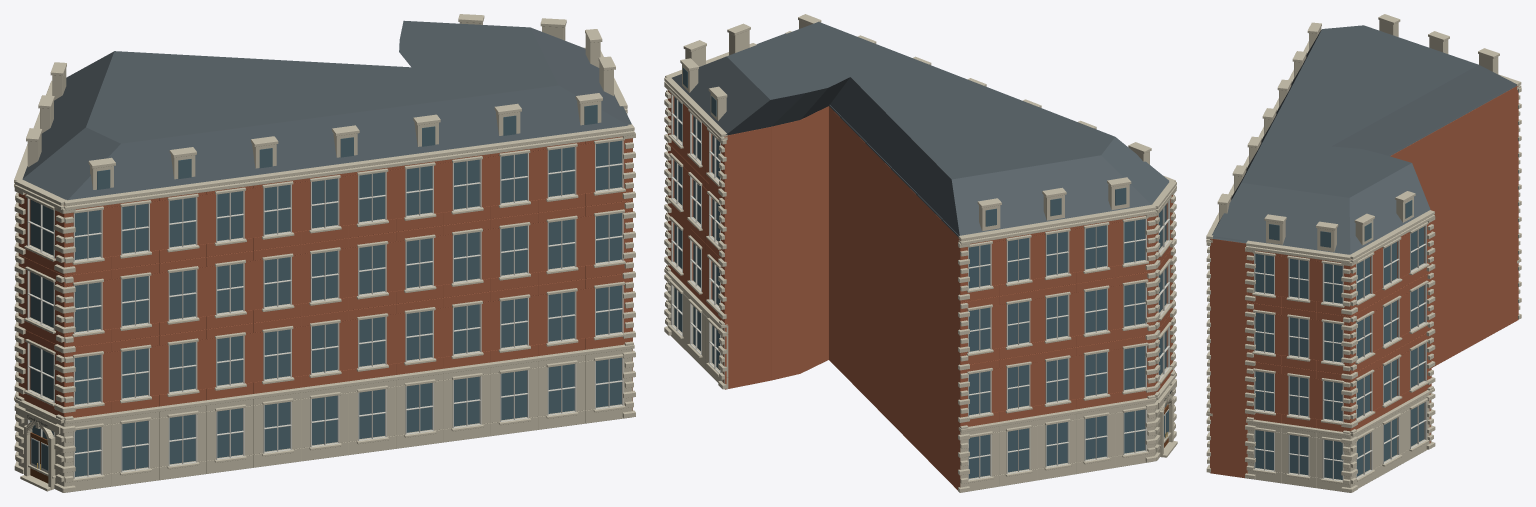
The model's file is cow-exterior-b4702a38c90c.glb.
The picture shows the model from 3 angles, left to right: view 1: azimuth 30°, elevation 25°; view 2: azimuth 150°, elevation 25°; view 3: azimuth 270°, elevation 25°; orthographic projection. The views are drawn at different scales.
Visible parts, largest first — view 1: COW.001; view 2: COW.001; view 3: COW.001.
Boxes of the visible parts, x1,y1,x2,y2 form: COW.001: (14, 14, 635, 492); COW.001: (664, 14, 1177, 492); COW.001: (1206, 14, 1521, 492).
Size of the model in its own units: 37.5 by 20.6 by 21.91.
